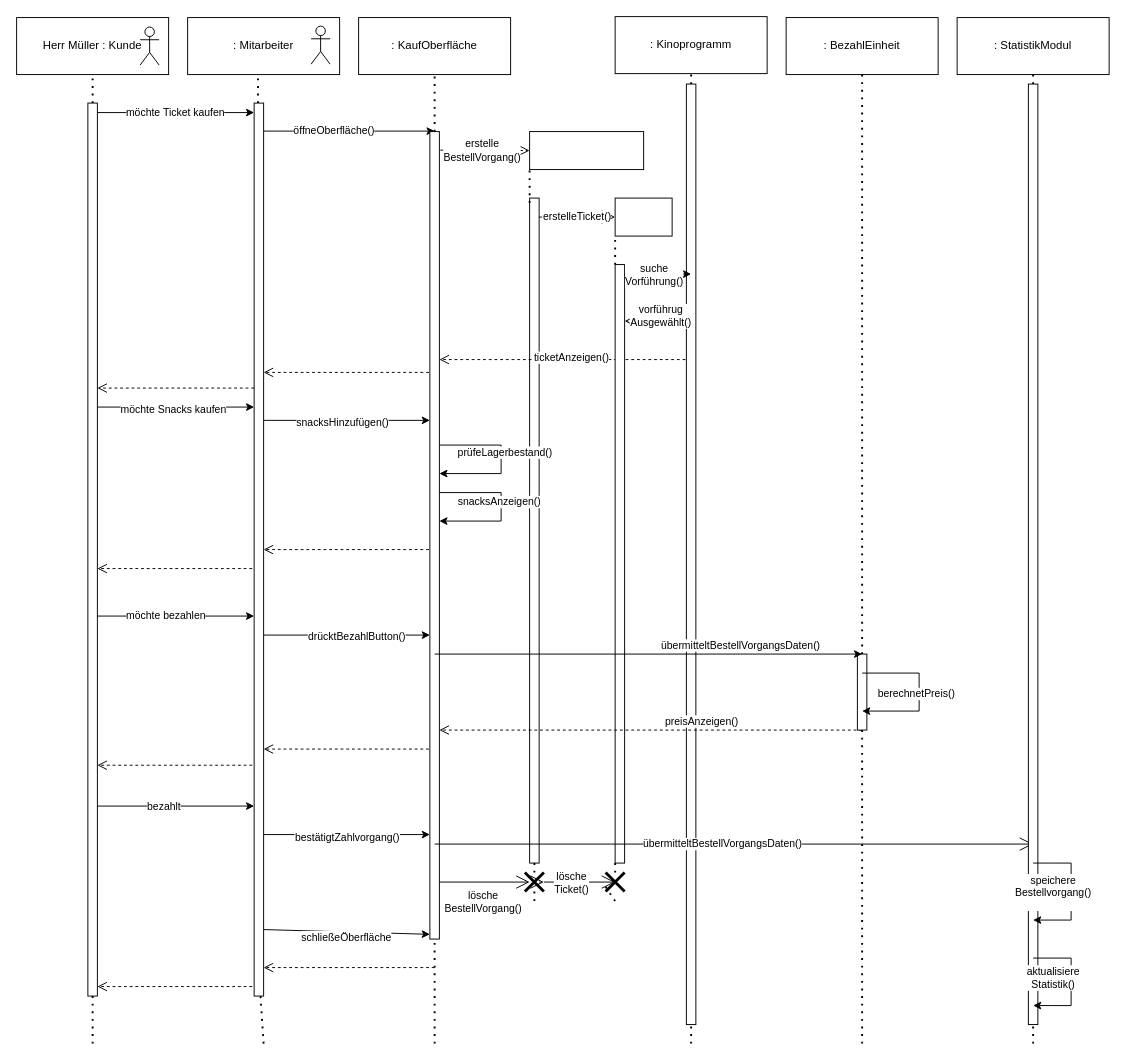
This 1126x1062 diagram has some shape labels left out. The shapes that lost their labels are listed below. From the top down, each one's centre as x and y in pixels, then its label:
the point at 586,150: v24 : BestellVorgang
the point at 643,216: t37 : Ticket
